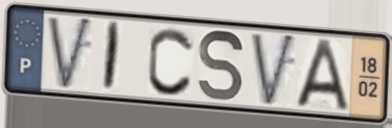A: (293, 37, 351, 112)
C: (145, 25, 196, 99)
I: (100, 20, 123, 95)
S: (197, 27, 247, 105)
V: (248, 30, 299, 111), (45, 13, 95, 94)
